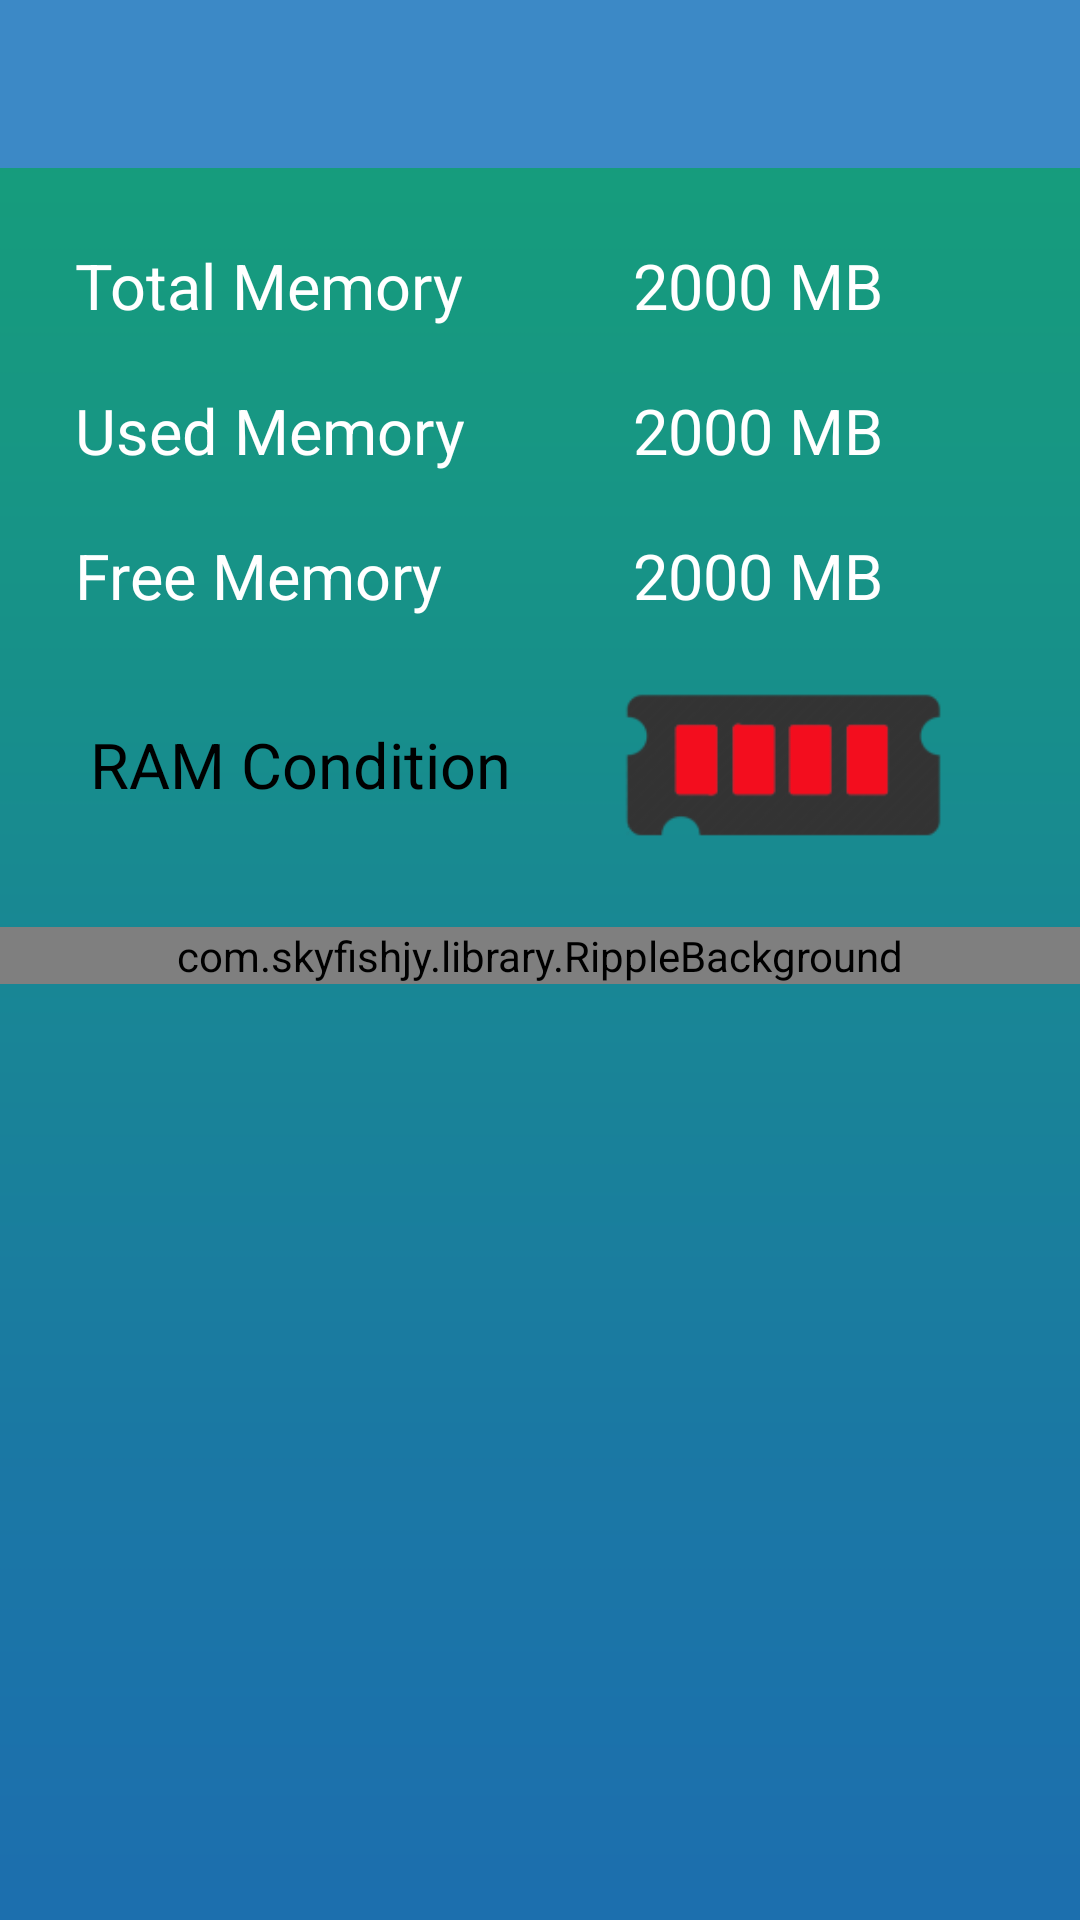

Where to tap for icons on this 1080px×1920px app screen, as (x=x, y=y):
redstate: (x=783, y=765)
